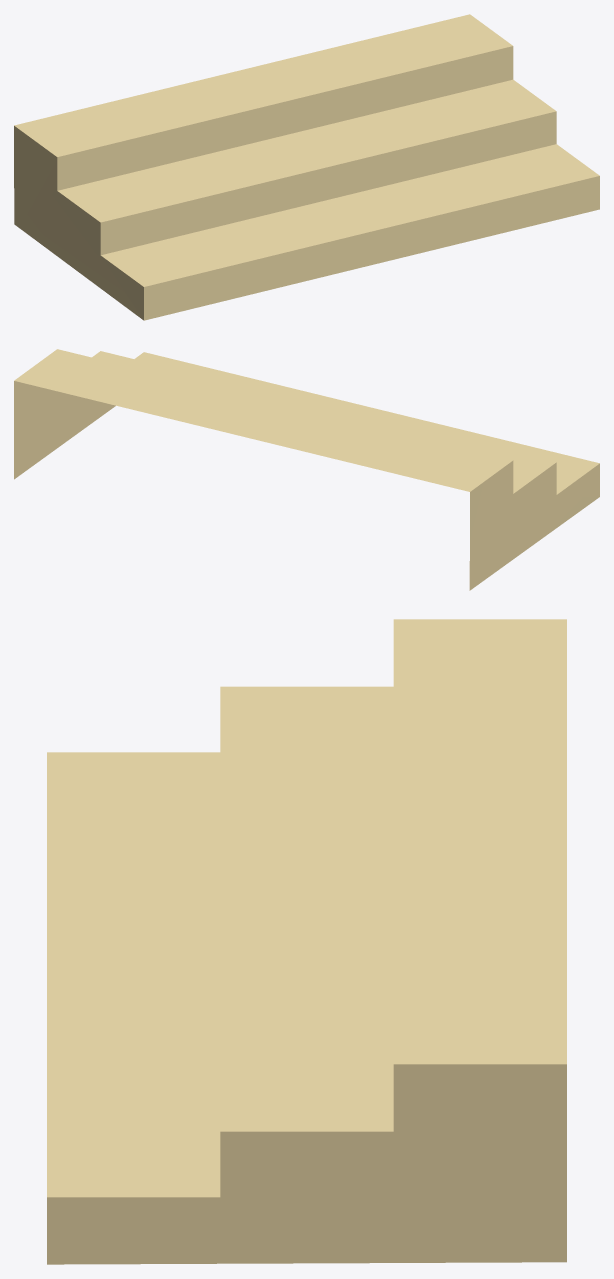
The picture shows the model from 3 angles, top to bottom: view 1: azimuth 30°, elevation 25°; view 2: azimuth 150°, elevation 25°; view 3: azimuth 270°, elevation 25°; orthographic projection. The views are drawn at different scales.
Parts seen in each view (by area): view 1: Object10; view 2: Object10; view 3: Object10.
Boxes of the visible parts, <box> form: Object10: <box>14,14,599,320</box>; Object10: <box>14,349,599,590</box>; Object10: <box>47,619,566,1264</box>.
Size of the model in its own units: 200 by 41.9 by 98.68.
